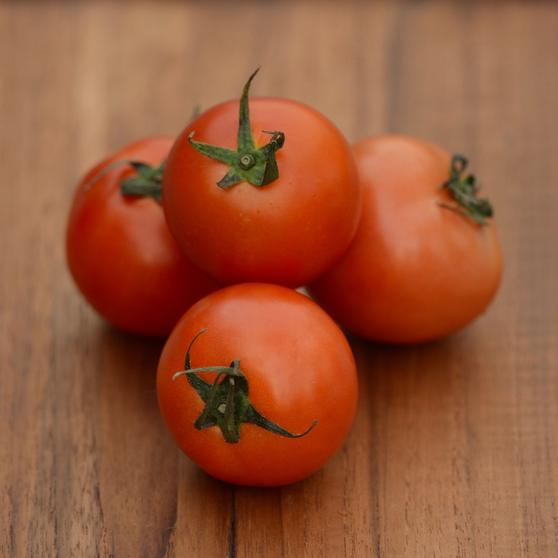tomato: (157, 281, 359, 491), (169, 88, 360, 279), (351, 137, 503, 342)
